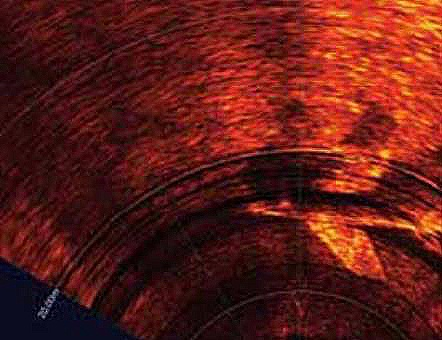aircraft: (240, 148, 440, 283)
